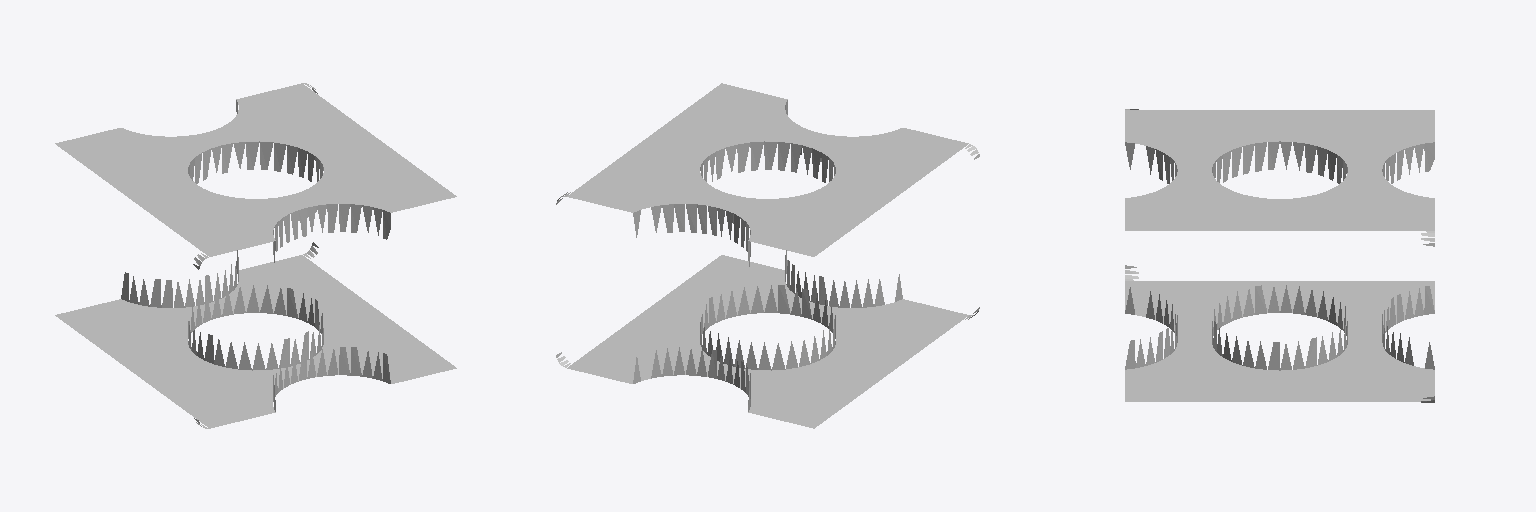
The model's file is 180712 HalfBrick.obj.
The picture shows the model from 3 angles: view 1: azimuth 30°, elevation 25°; view 2: azimuth 150°, elevation 25°; view 3: azimuth 270°, elevation 25°; orthographic projection.
Size of the model in its own units: 0.1025 by 0.0625 by 0.1025.